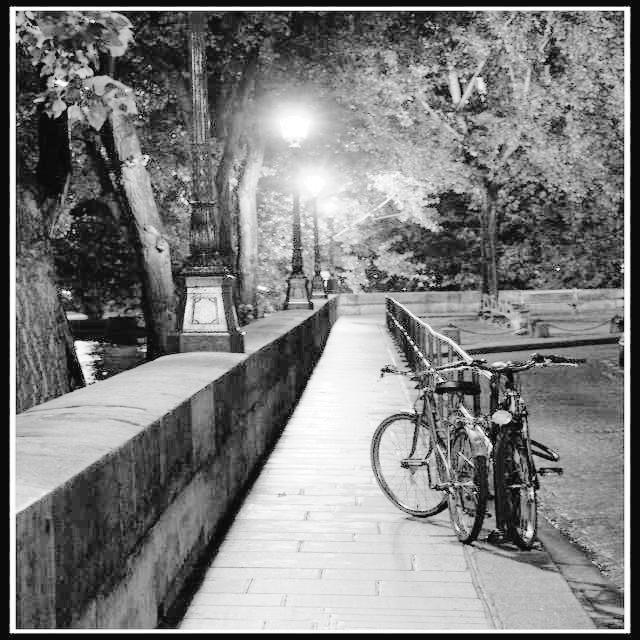Bicycle: (344, 353, 567, 547)
